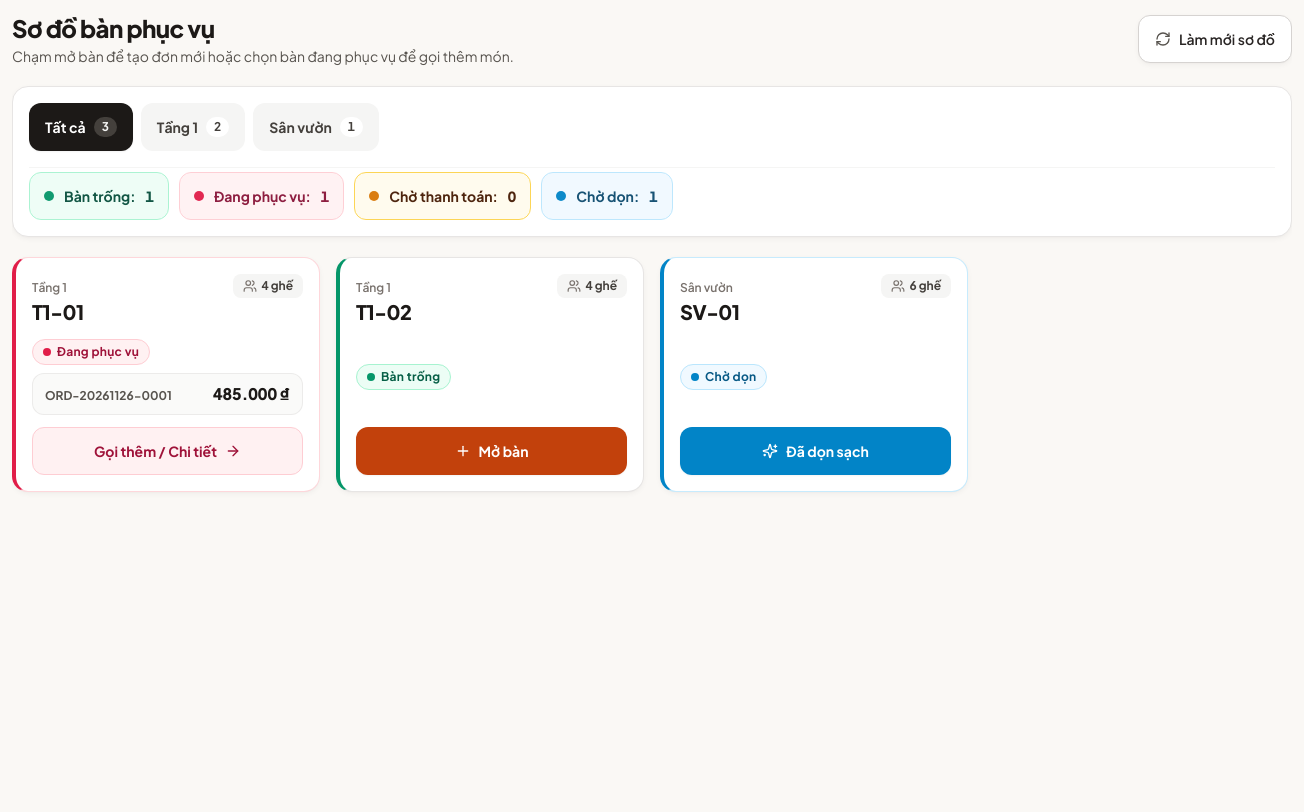
FloorMapPage › handles 409 Conflict when opening a table concurrently by displaying conflict alert and reloading tables
What coordinates should you click on to do the following:
click the button with aria-label "Mở bàn T1-02"
I would click on:
 (492, 451)
Its box is x1=356 y1=427 x2=627 y2=475.
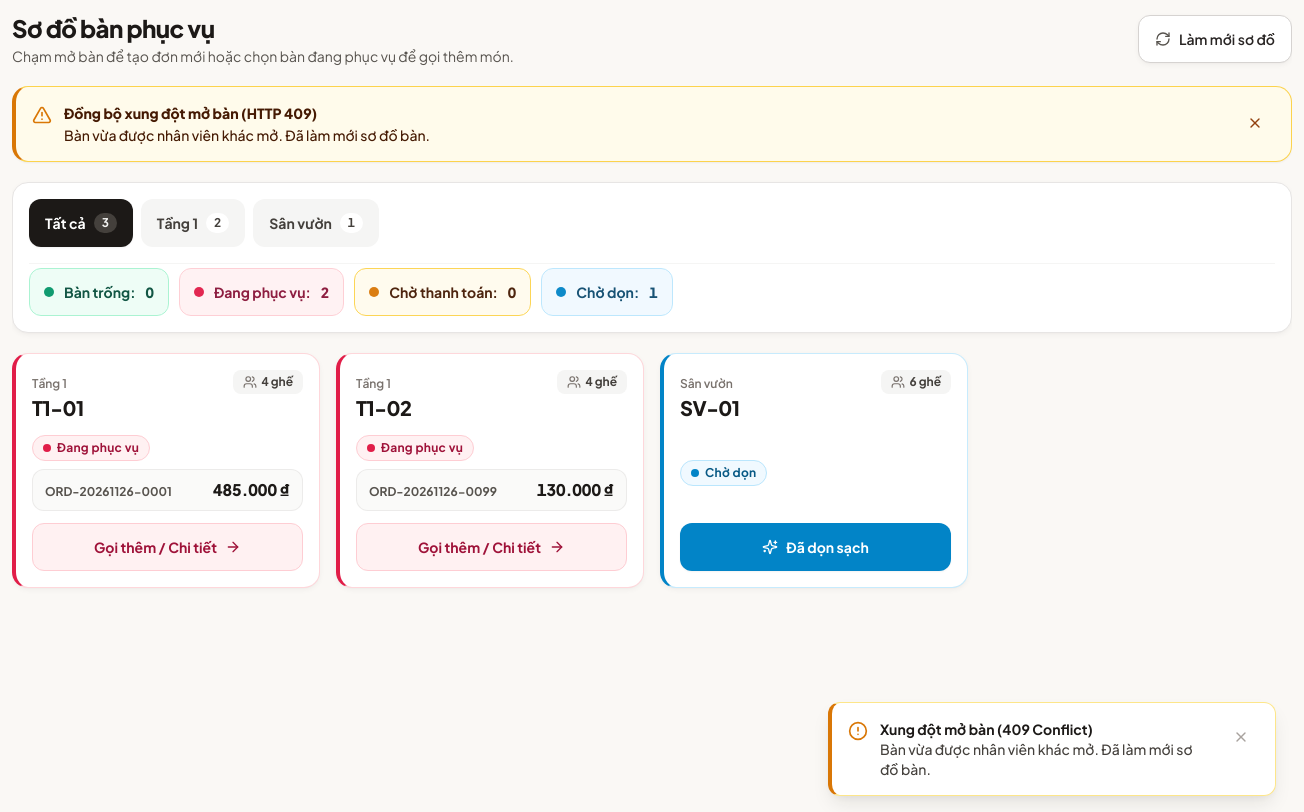
Now the text "ORD-20261126-0099" is shown, box x1=369 y1=484 x2=497 y2=500
Now the text "130.000 ₫" is shown, box x1=537 y1=478 x2=614 y2=502
